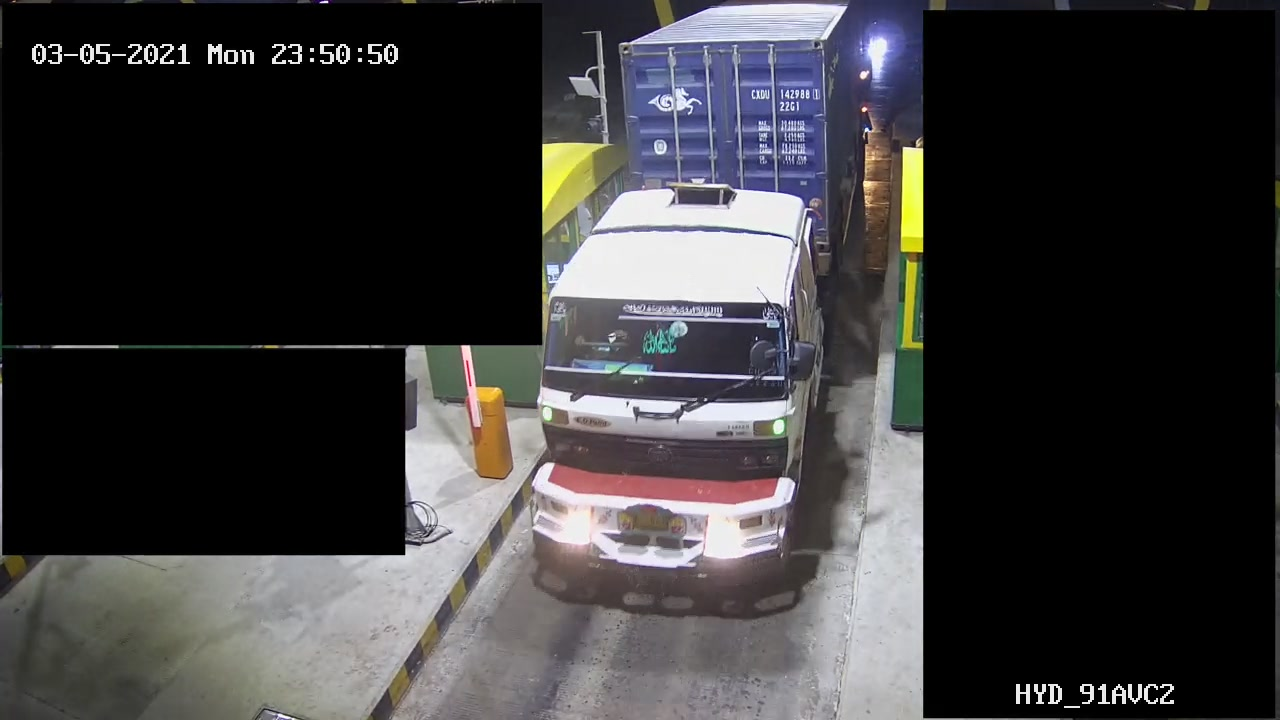F6: (519, 1, 877, 622)
